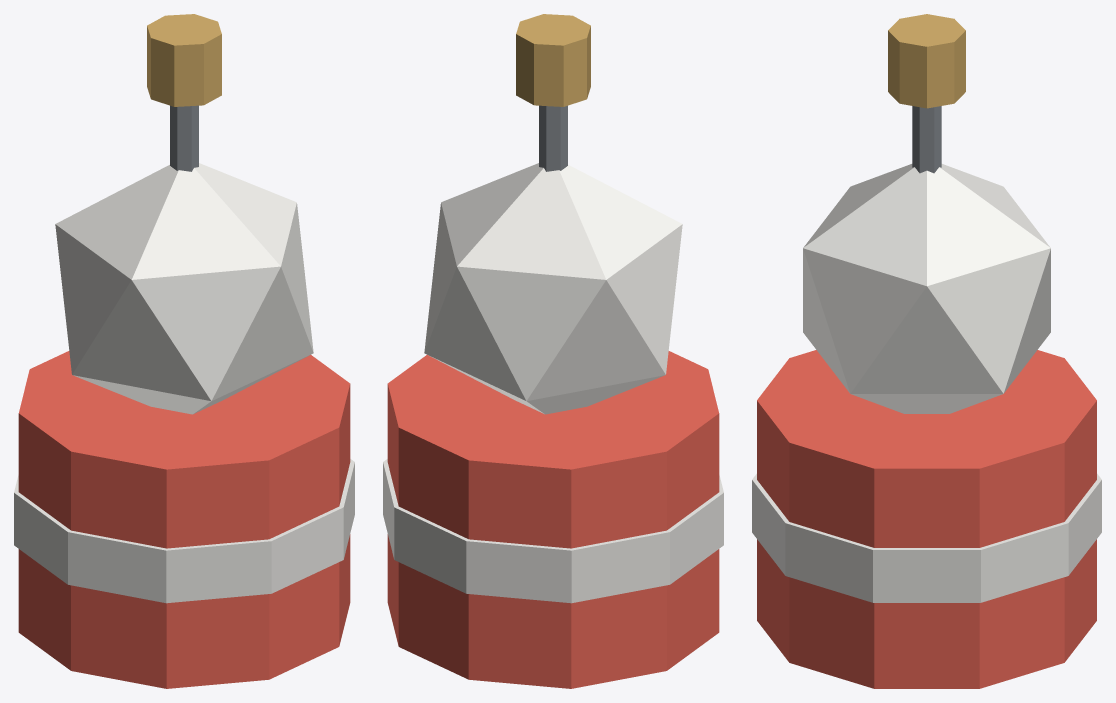
The model's file is marine.buoy.glb.
3 renders of one model, left to right at view 1: azimuth 30°, elevation 25°; view 2: azimuth 150°, elevation 25°; view 3: azimuth 270°, elevation 25°, orthographic.
Visible parts, largest first — view 1: marine.buoy; view 2: marine.buoy; view 3: marine.buoy.
Part boxes in pixels (box(x1,y1,x2,y2)): marine.buoy: box(14, 14, 354, 688); marine.buoy: box(383, 14, 723, 688); marine.buoy: box(752, 14, 1101, 688).
Size of the model in its own units: 0.6848 by 1.34 by 0.72.
